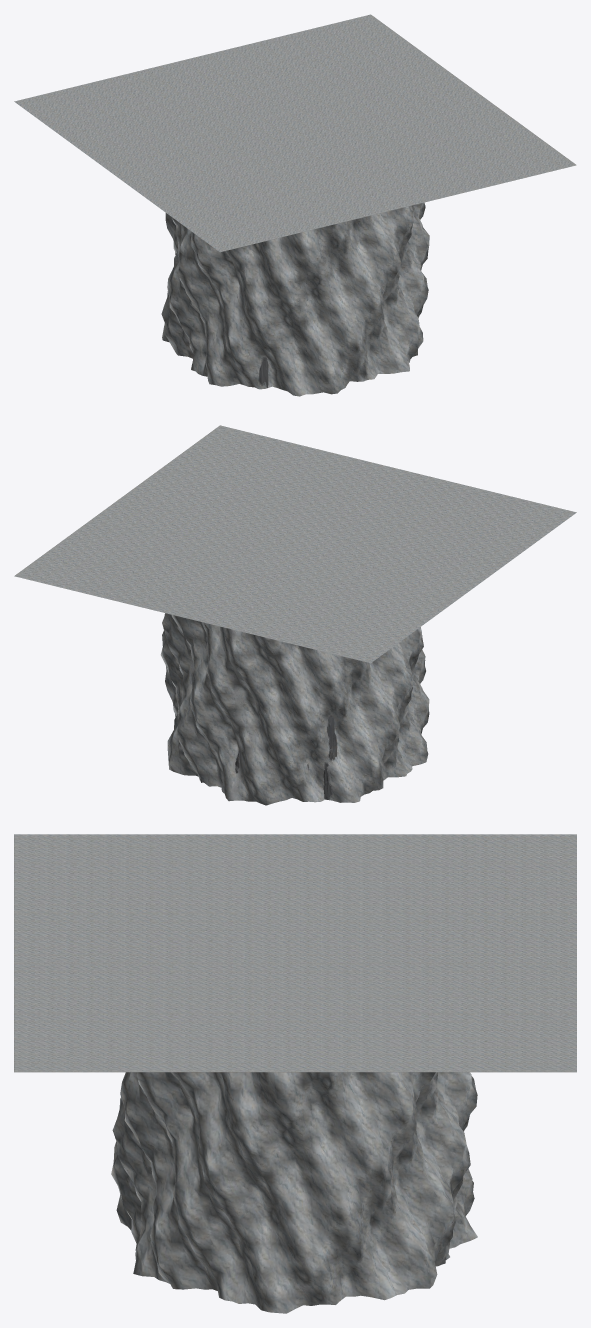
The model's file is room.glb.
The picture shows the model from 3 angles, top to bottom: view 1: azimuth 30°, elevation 25°; view 2: azimuth 150°, elevation 25°; view 3: azimuth 270°, elevation 25°; orthographic projection. The views are drawn at different scales.
Visible parts, largest first — view 1: POSTS-ROOM; view 2: POSTS-ROOM; view 3: POSTS-ROOM.
Boxes of the visible parts, x1=… form: POSTS-ROOM: x1=14, y1=14, x2=576, y2=396; POSTS-ROOM: x1=14, y1=425, x2=576, y2=805; POSTS-ROOM: x1=14, y1=834, x2=576, y2=1313.
Size of the model in its own units: 95.2 by 53 by 95.2.
1 material, 1 textured.
